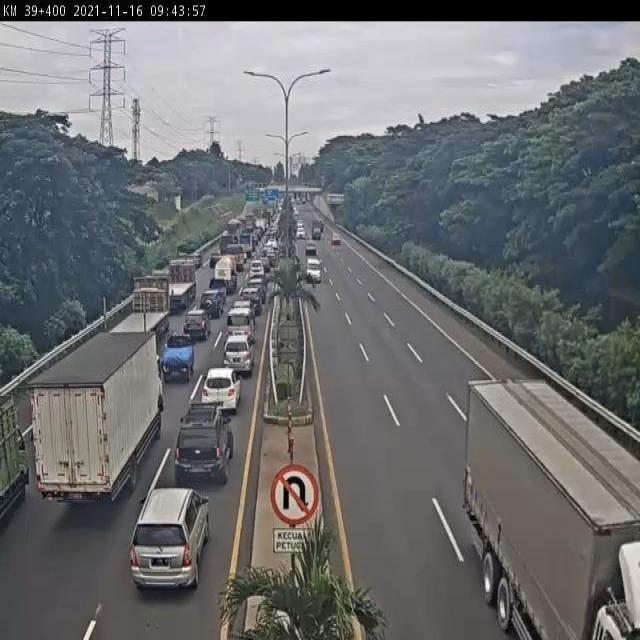car: (129, 488, 210, 601), (175, 401, 238, 487), (200, 367, 240, 420), (159, 333, 194, 383), (222, 335, 255, 380), (225, 308, 254, 348), (181, 309, 209, 343), (202, 289, 225, 320)
truck-l-: (463, 378, 640, 640), (103, 272, 172, 351), (157, 256, 199, 315)
truck-m-: (28, 327, 170, 510)
